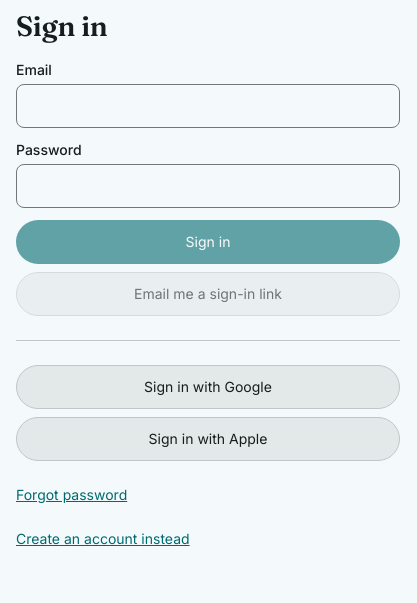
SignInPage (issue #1250) › stays on the sign-in page with the mapped copy when the send is rejected (issue #1294)
This screenshot has width=417, height=603.
Type "a@b.co" into the field labelled "Email" at (208, 106), box [16,84,400,128]
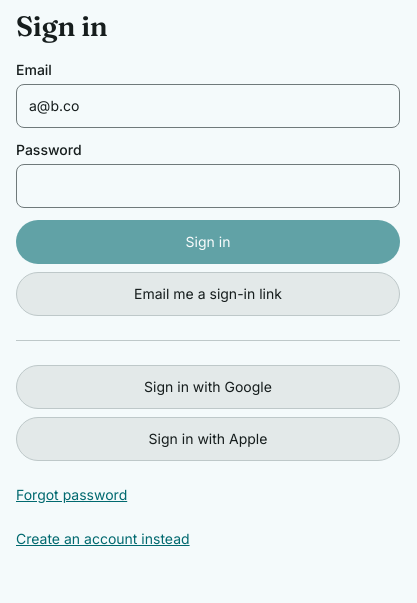
Click the button "Email me a sign-in link" at (208, 294), box [16,272,400,316]
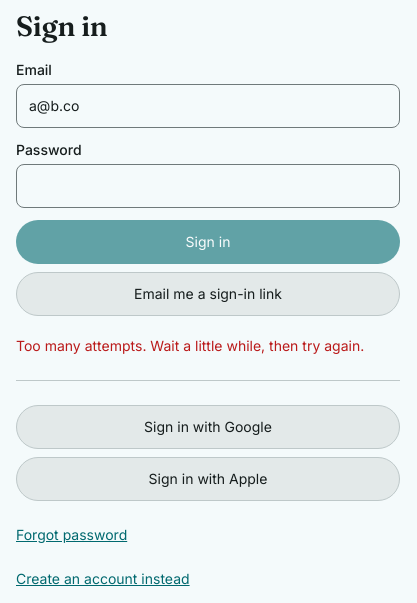
expect the text "Too many attempts. Wait a little while, then try again." is shown: met, box [16,336,400,356]
